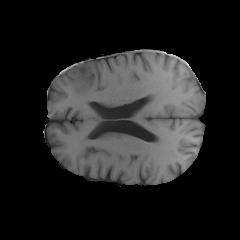glioma: (56, 62, 113, 113)
